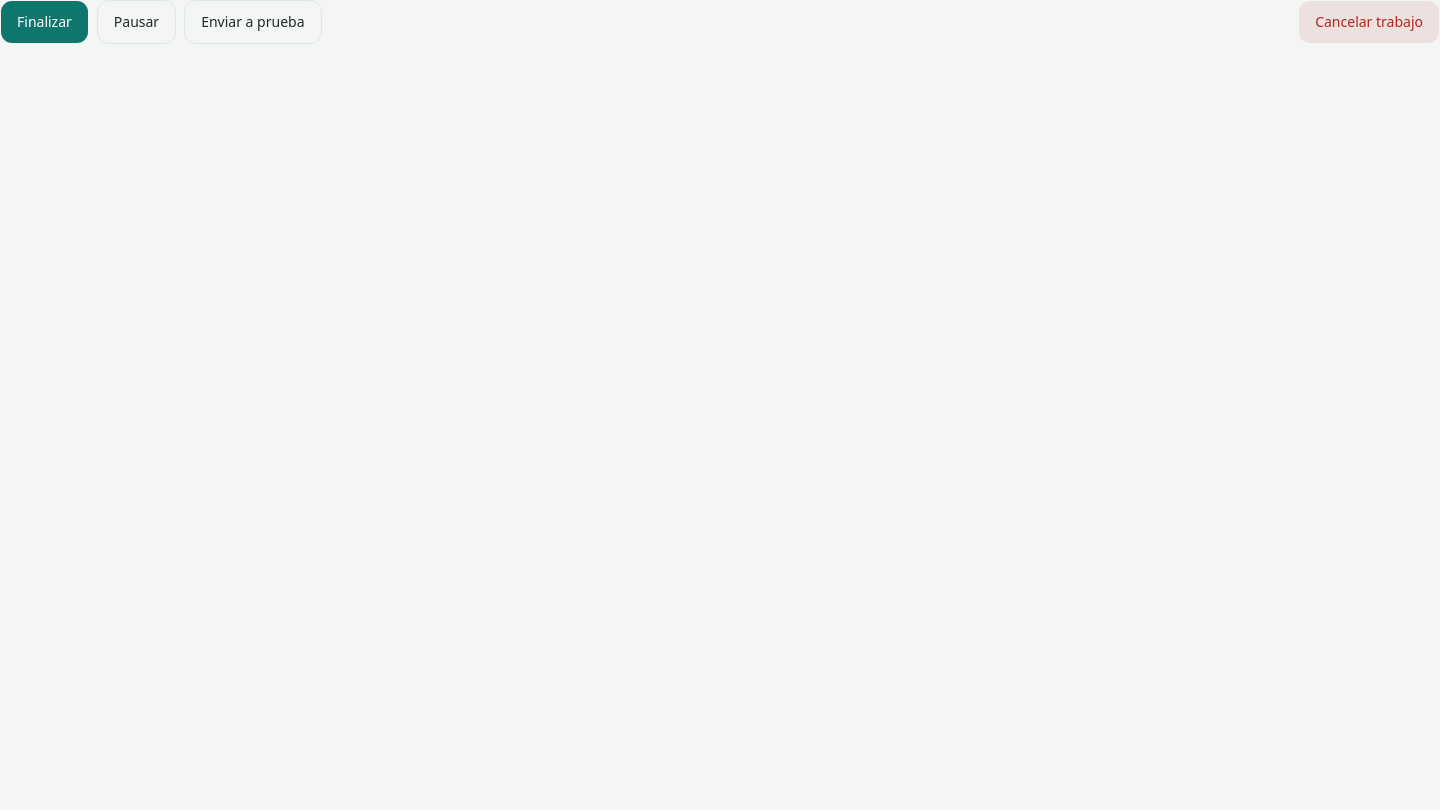
Test: CaseActions › el diálogo de «Pausar» nombra la acción y su efecto
The image size is (1440, 810).
Click the button "Pausar" at (136, 22), box 97,0 -> 176,44
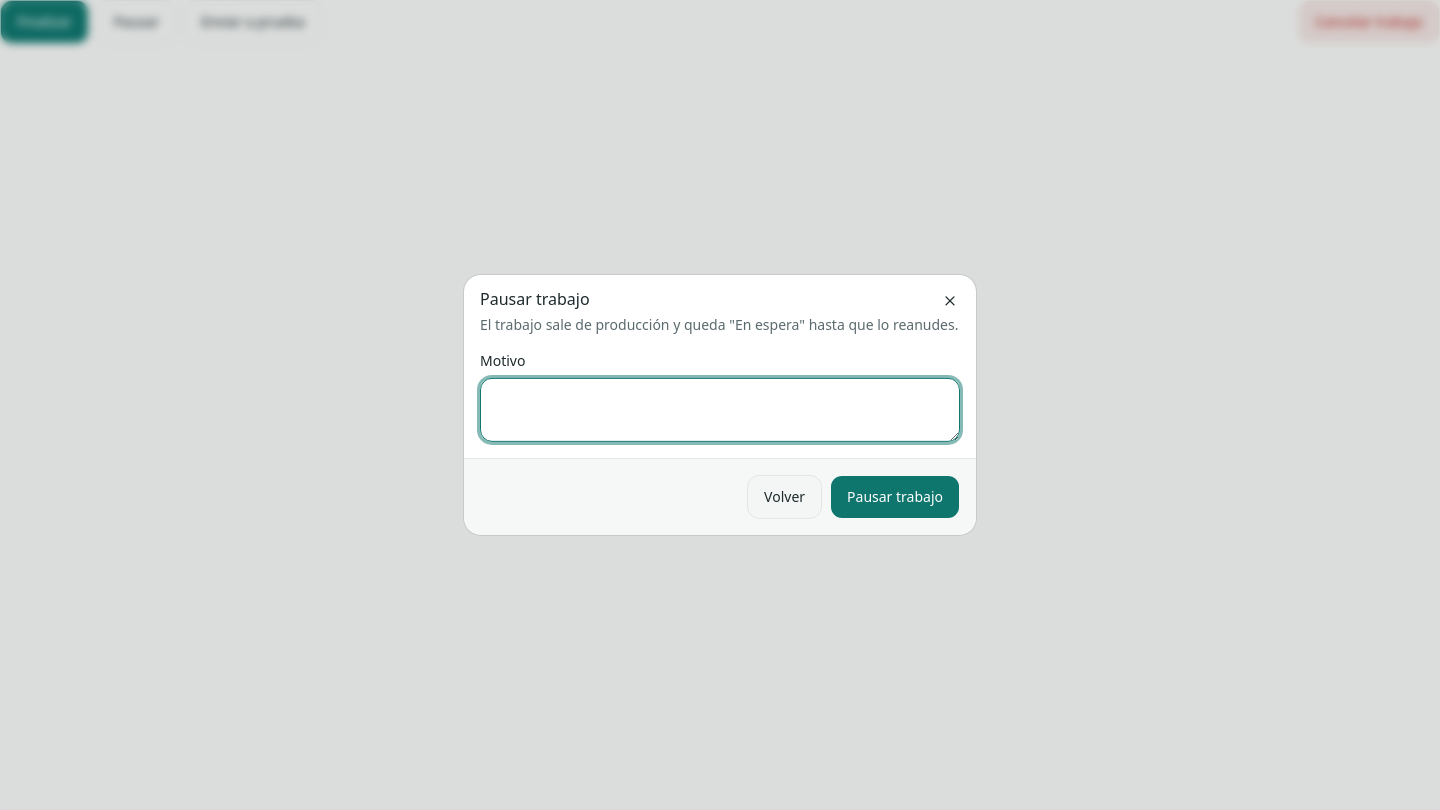
Check: the heading "Pausar trabajo" is shown, box 480,288 -> 590,310
Check: the text "El trabajo sale de producción y queda \"En espera\" hasta que lo reanudes." is shown, box 480,315 -> 960,335
Check: the button "Pausar trabajo" is shown, box 830,475 -> 960,519
